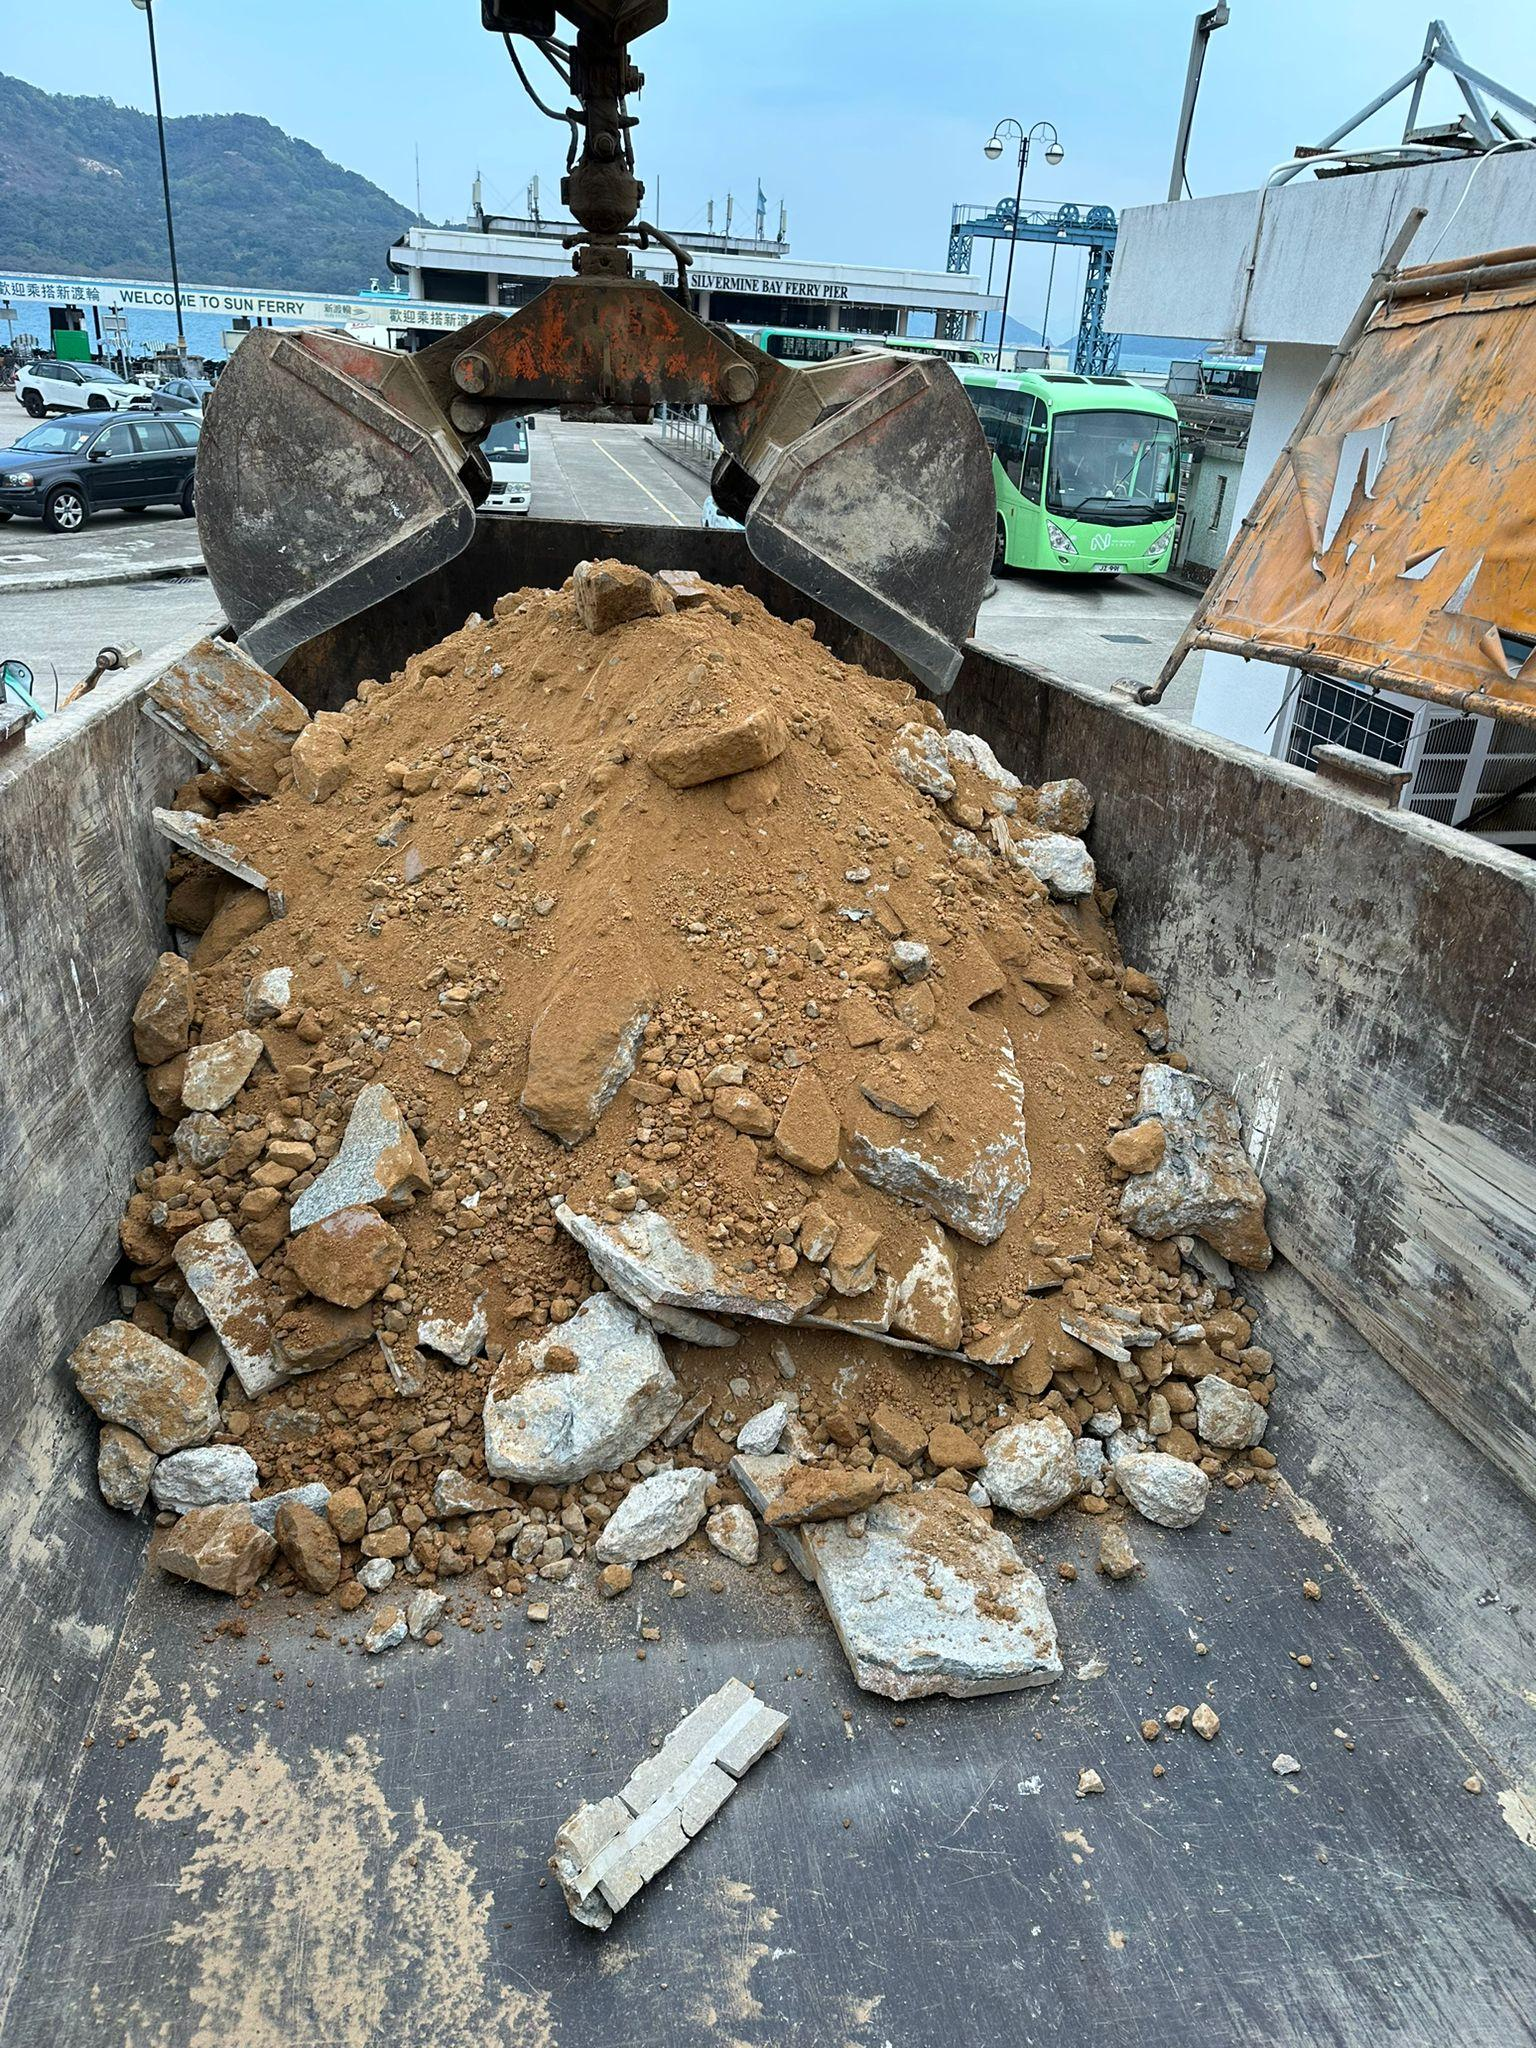dry: (119, 584, 1279, 1674)
